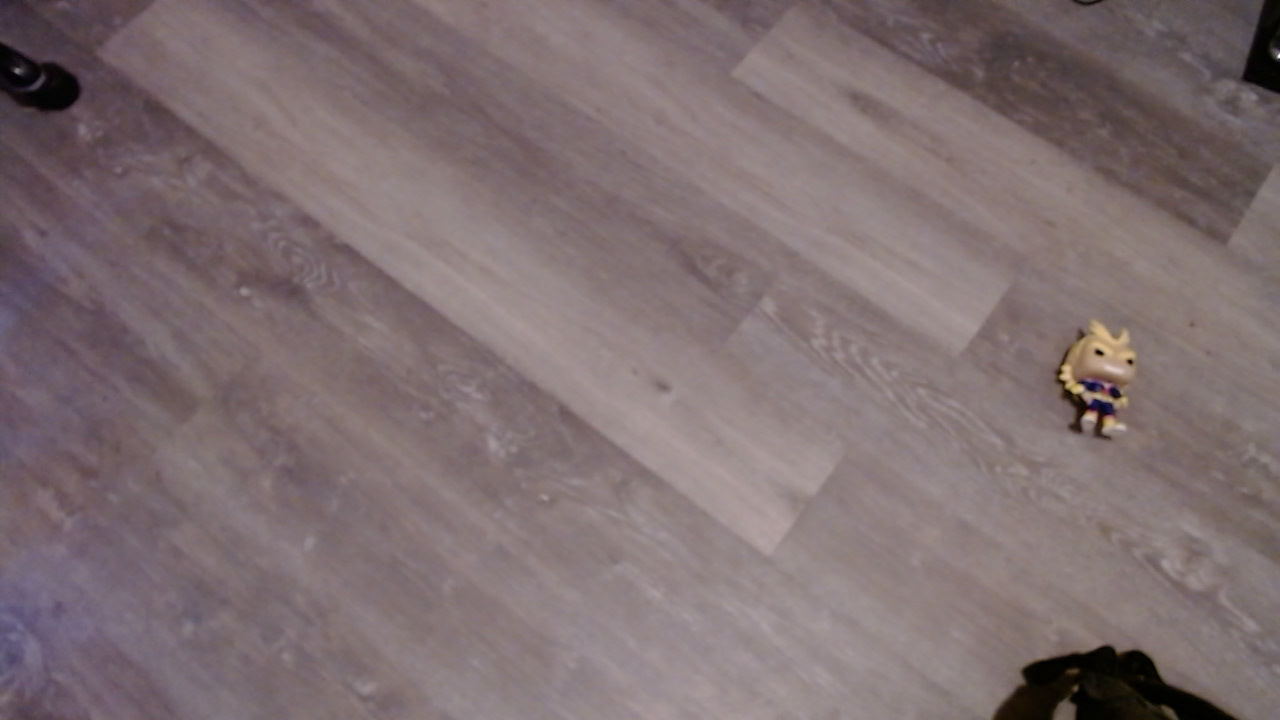all_might: (1045, 316, 1167, 450)
